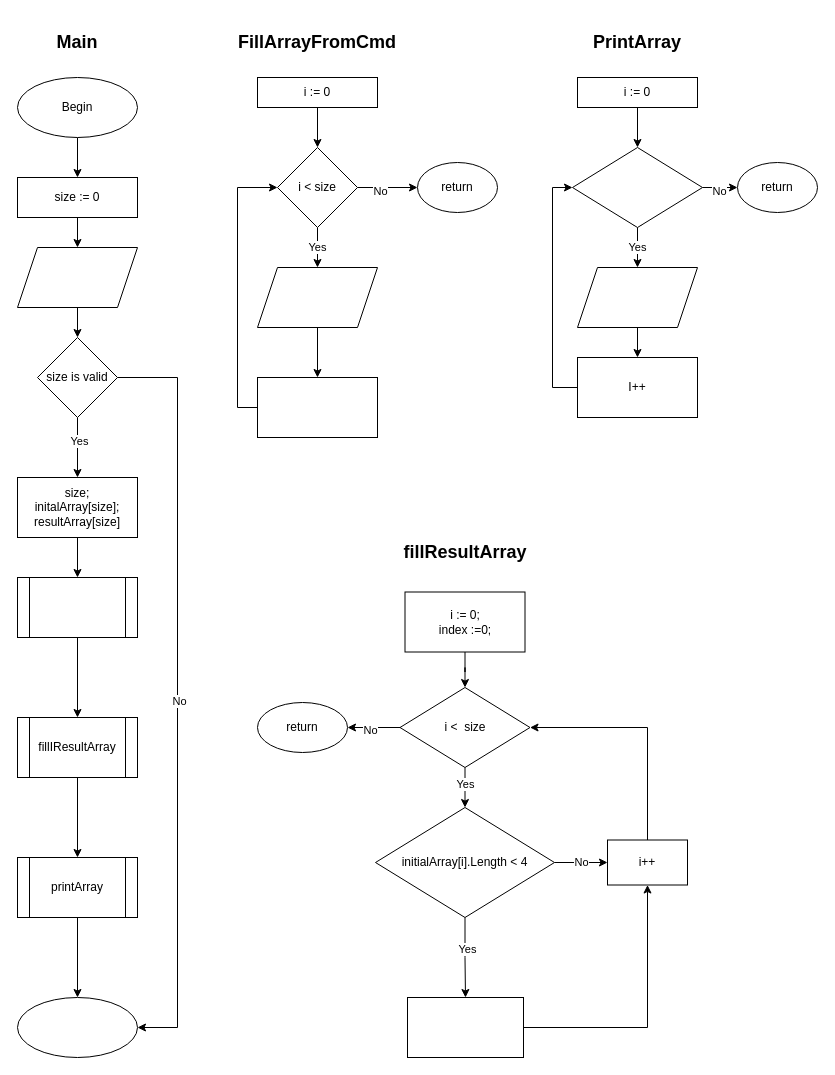
This 835x1075 diagram has some shape labels left out. Here are the shapes that lost their labels. From the top down, the centre of each, then its label:
At [637,187]: "i < resultArray.Length".
At [77,277]: "Enter size".
At [317,297]: "Enter the element's value".
At [637,297]: "resultArray[i]".
At [317,407]: "initialArray[i] := value; i++".
At [77,607]: "fillIArrayFromCmd".
At [77,1027]: "End".
At [465,1027]: "resultArray[index] := initialArray.Length; index++".
